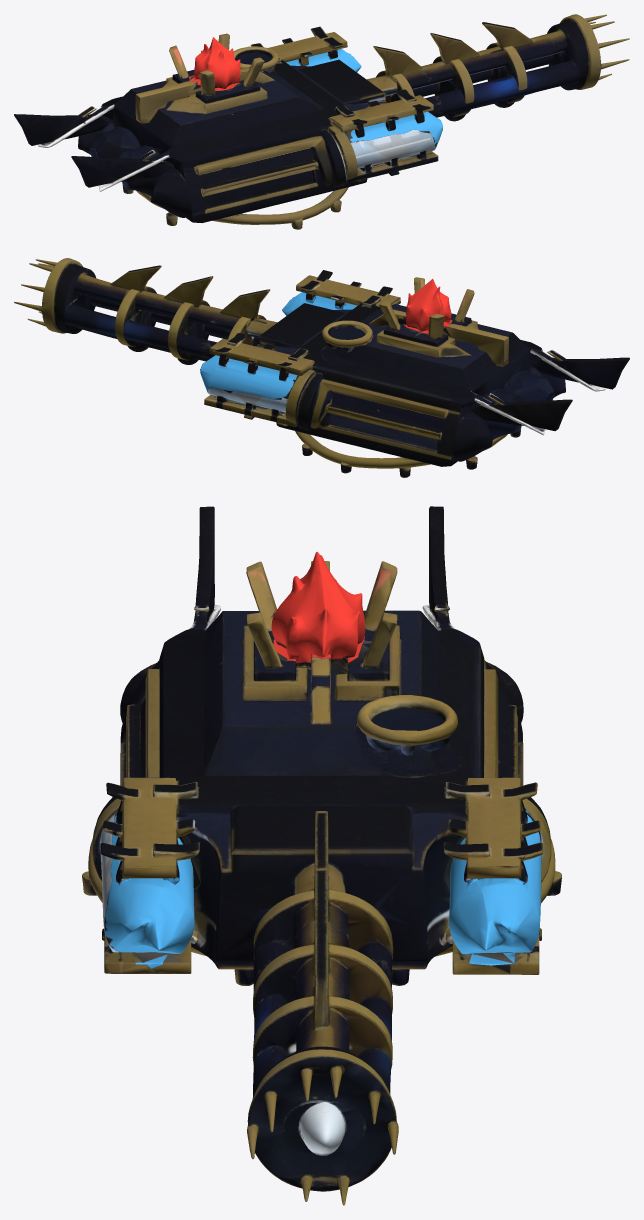
The model's file is weapon-moon-full.glb.
3 renders of one model, top to bottom at view 1: azimuth 30°, elevation 25°; view 2: azimuth 150°, elevation 25°; view 3: azimuth 270°, elevation 25°, orthographic. The views are drawn at different scales.
Parts seen in each view (by area): view 1: weapon-moon-full; view 2: weapon-moon-full; view 3: weapon-moon-full.
Boxes of the visible parts, x1=… form: weapon-moon-full: x1=14, y1=14, x2=629, y2=229; weapon-moon-full: x1=14, y1=258, x2=629, y2=477; weapon-moon-full: x1=82, y1=506, x2=561, y2=1205.
Size of the model in its own units: 3.58 by 0.9365 by 1.3.
1 material, 1 textured.
